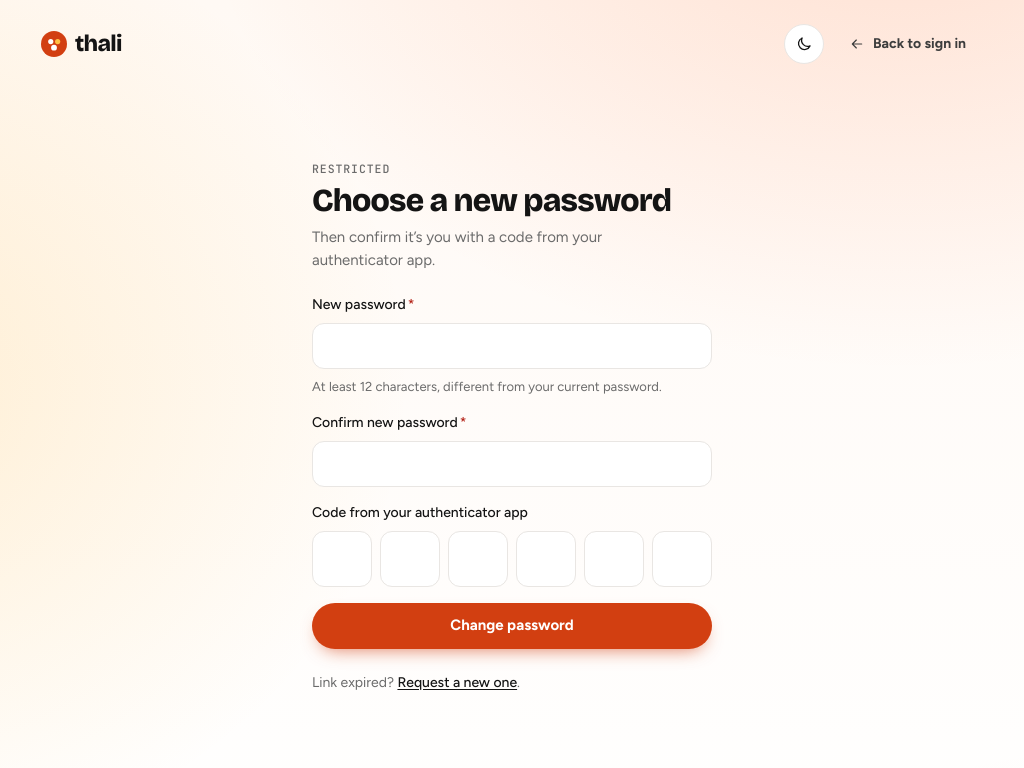
Test: admin password reset (IDN-1) › invalid token / TOTP shows a clear error
In the password field labelled "New password*": (512, 346) [312,323,712,369], type "n3w-password!"
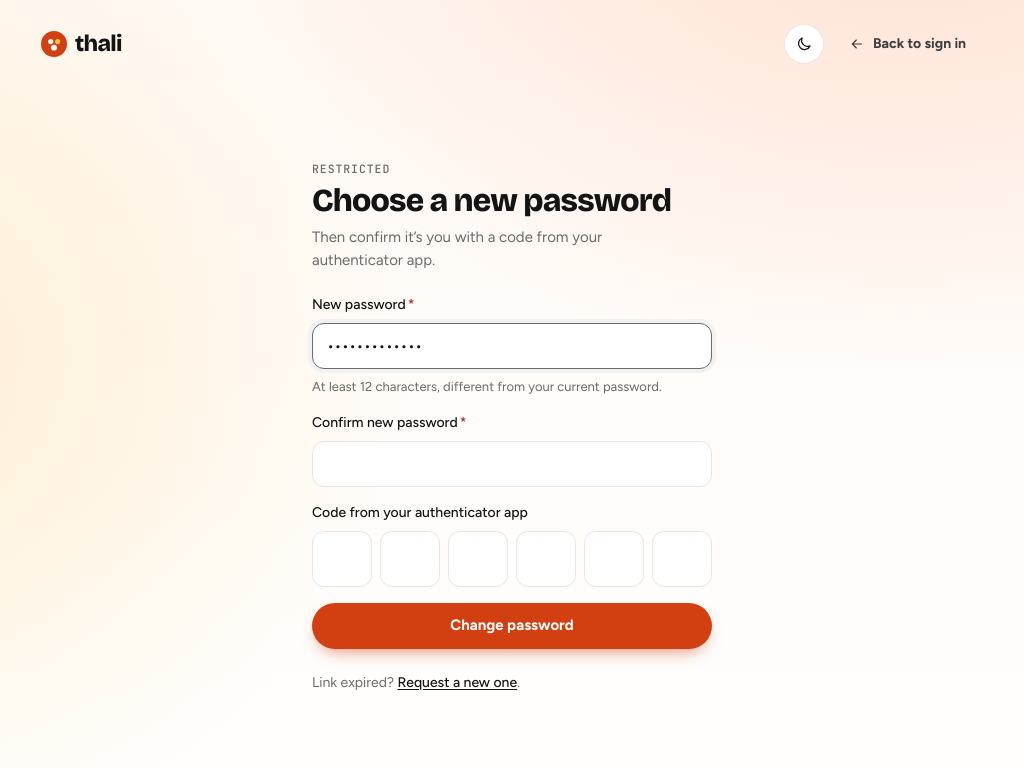
In the password field labelled "Confirm new password*": (512, 464) [312,441,712,487], type "n3w-password!"
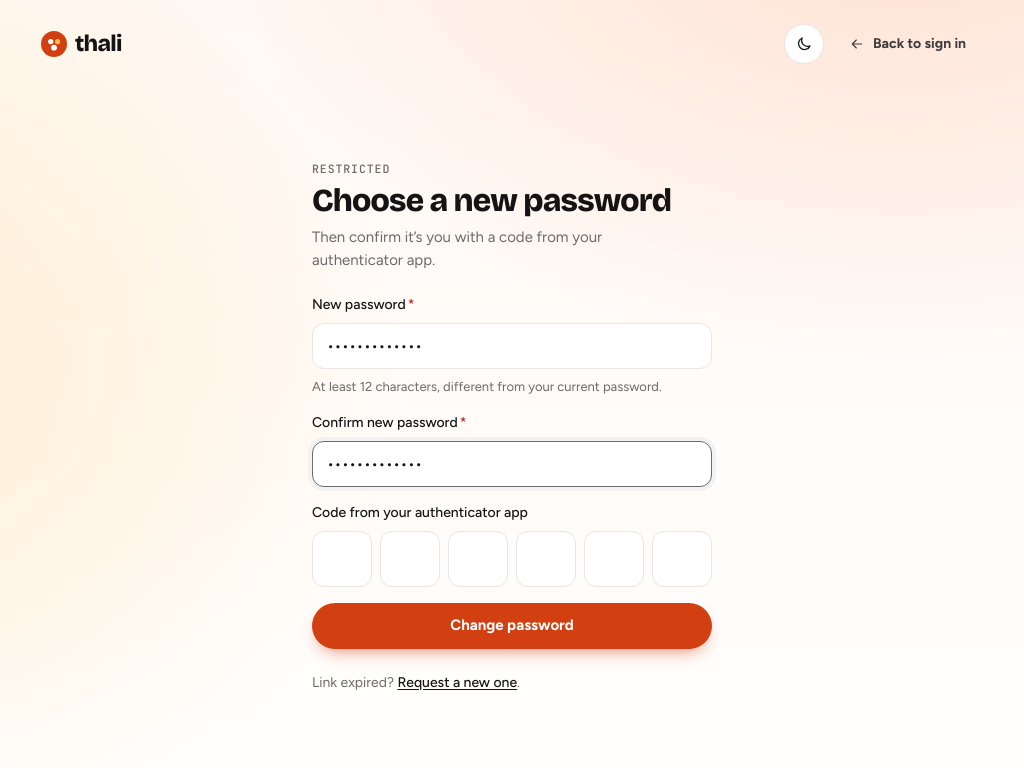
In the field named "Authenticator code": (512, 559) [312,531,712,587], type "123456"
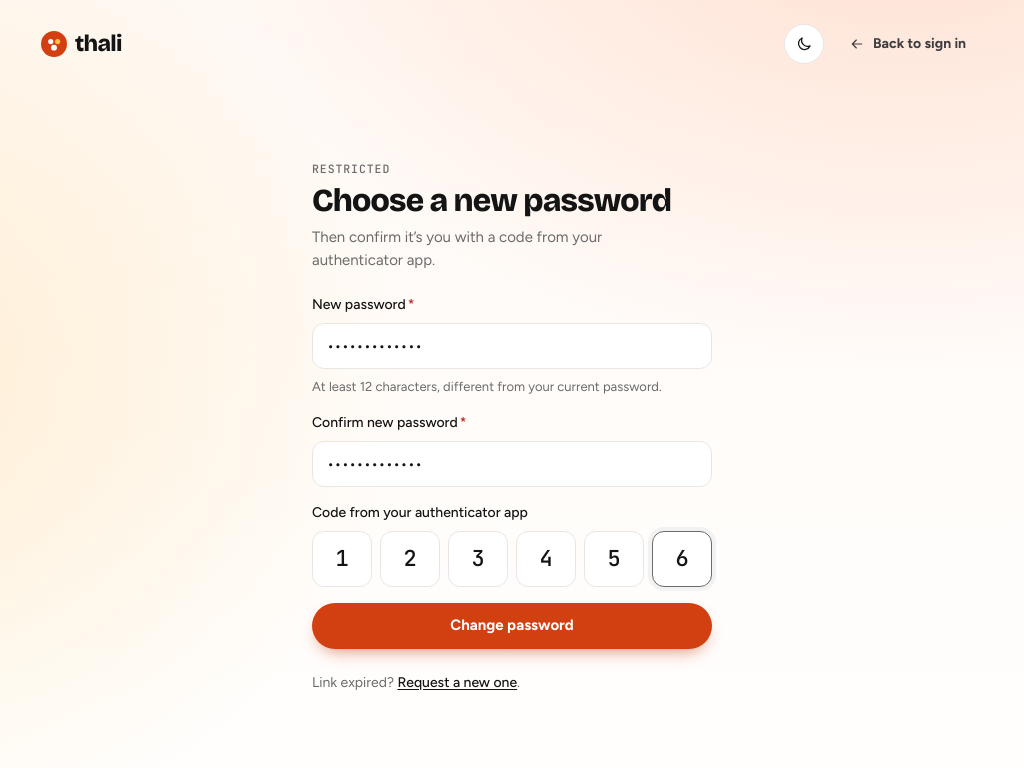
Click the button "Change password": (512, 626) [312,603,712,649]
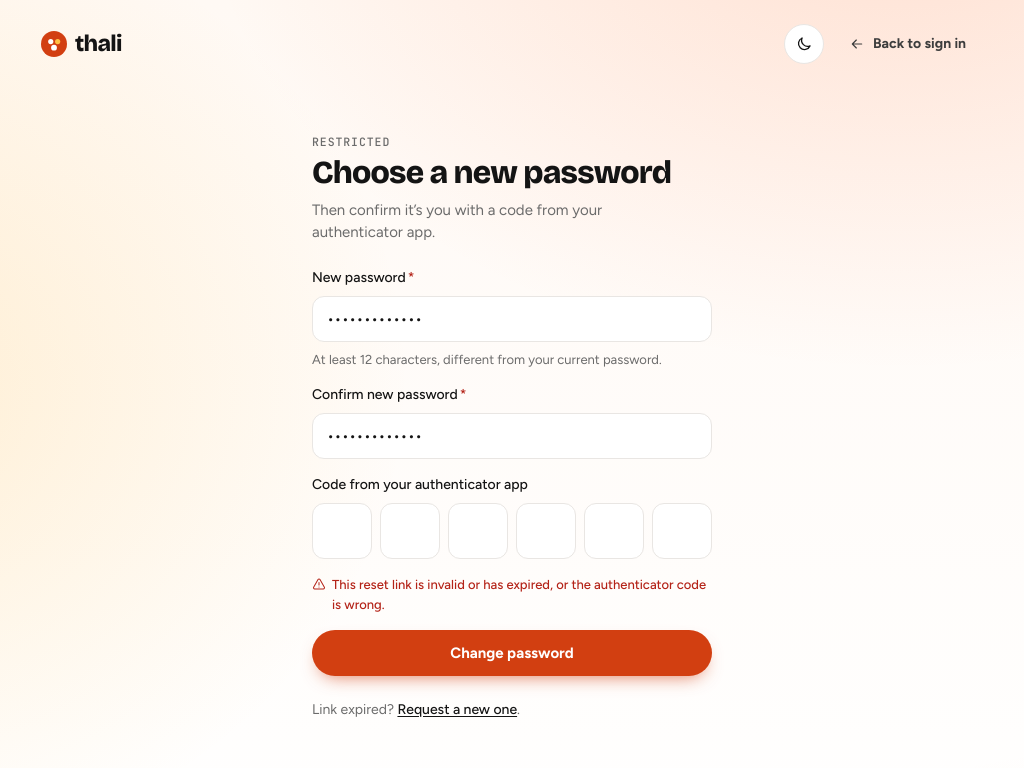
Now the text "invalid or has expired, or the authenticator code is wrong" is shown, box [332,577,706,612]
